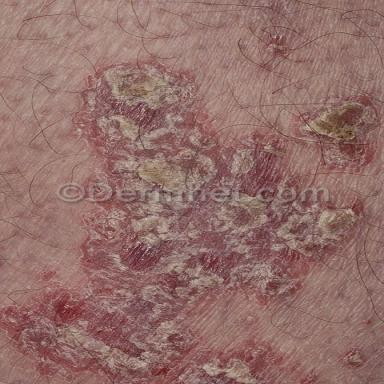Psoriasis: (0, 200, 370, 384), (71, 55, 381, 188), (339, 349, 367, 371)
